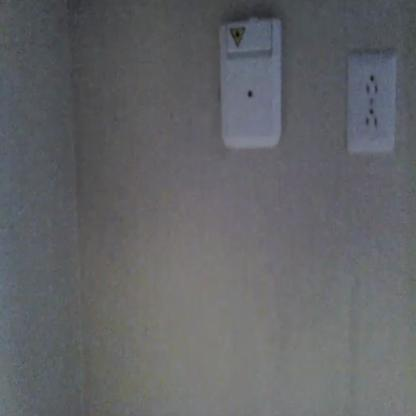OUTLET: (348, 52, 396, 154)
